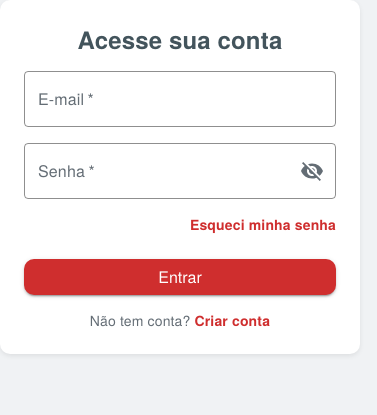
Test case: LandingLoginCard › should show the required messages when submitting an empty form
Step 1. Click the button "Entrar" → point(180, 277), box [24,259,336,295]
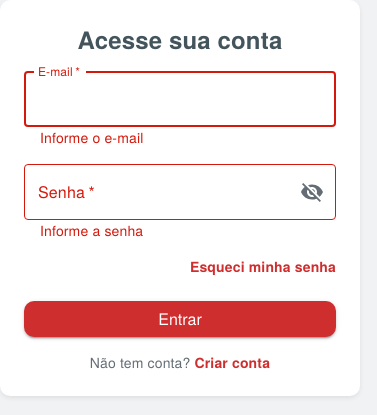
Now the text "Informe o e-mail" is shown, box [40,127,143,147]
Now the text "Informe a senha" is shown, box [40,220,143,240]
